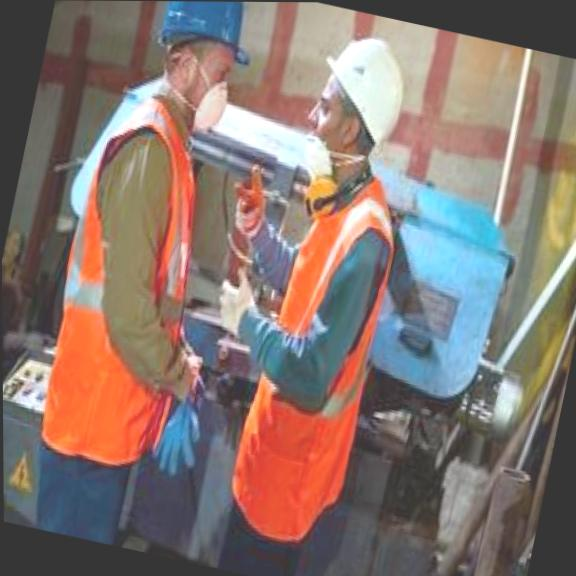safety_vest: (31, 87, 236, 465), (221, 172, 405, 532)
